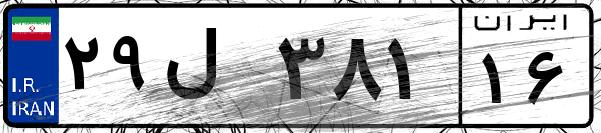1: (385, 28, 445, 110), (475, 38, 525, 113)
2: (57, 26, 110, 100)
3: (270, 28, 330, 110)
6: (525, 38, 570, 115)
8: (330, 28, 385, 110)
9: (110, 28, 158, 98)
ل: (158, 20, 270, 120)
